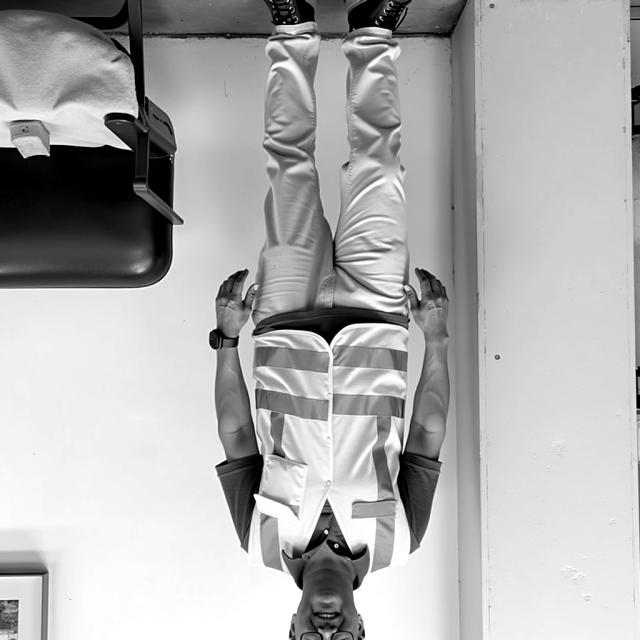Vest: (254, 324, 410, 564)
